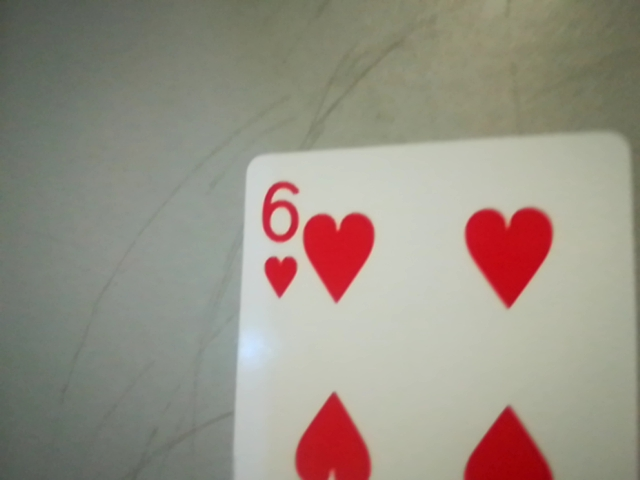hx 6: (251, 170, 306, 307)
